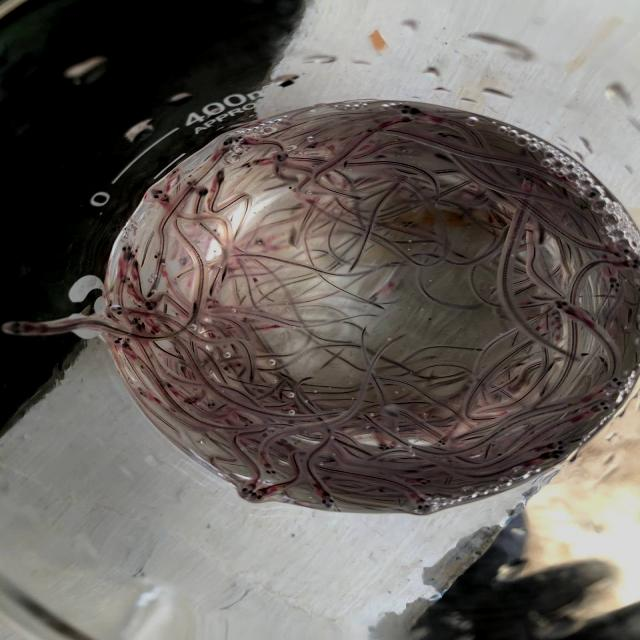glass_eel: (2, 314, 37, 342), (120, 238, 142, 266), (612, 240, 638, 258), (235, 479, 258, 499), (247, 485, 270, 504), (410, 498, 434, 516), (554, 297, 576, 316), (112, 335, 132, 355), (108, 304, 130, 322), (584, 184, 602, 206), (588, 398, 614, 413), (398, 103, 422, 119), (144, 295, 166, 312), (317, 492, 335, 512), (148, 251, 170, 267), (520, 173, 540, 190), (273, 148, 290, 168), (540, 449, 566, 462), (600, 375, 626, 388), (546, 438, 570, 452), (217, 136, 237, 152), (607, 276, 623, 296), (150, 188, 172, 202), (212, 167, 230, 184), (119, 274, 137, 290), (178, 394, 202, 406), (260, 464, 278, 480), (302, 136, 324, 149), (233, 134, 253, 148), (375, 438, 395, 452), (399, 218, 418, 232), (618, 258, 640, 270), (135, 386, 153, 400), (202, 397, 220, 411), (238, 159, 258, 171), (131, 318, 145, 334), (434, 128, 452, 140), (434, 436, 451, 448), (195, 184, 209, 198), (146, 326, 158, 338)
